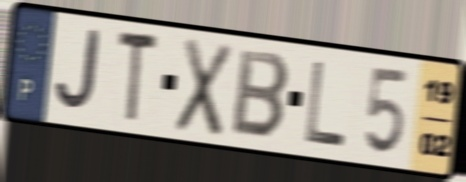5: (363, 63, 410, 157)
B: (229, 45, 293, 143)
J: (52, 26, 102, 116)
L: (303, 57, 349, 150)
T: (115, 26, 161, 127)
X: (172, 34, 236, 141)
